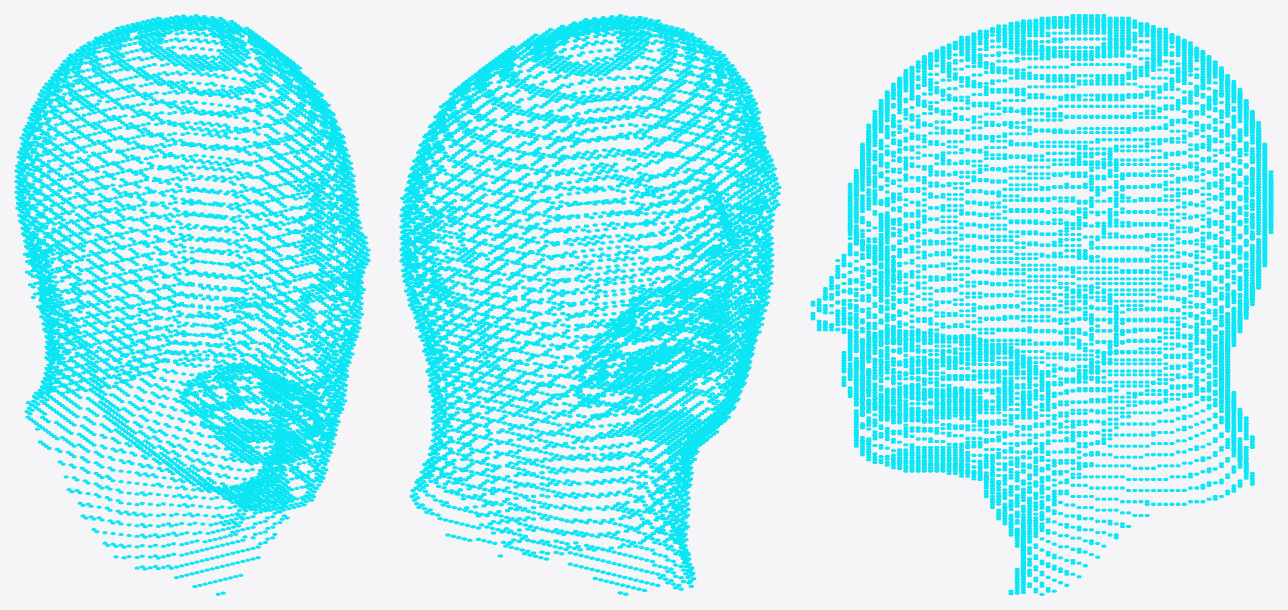
File: hologramaface.glb
The picture shows the model from 3 angles, left to right: view 1: azimuth 30°, elevation 25°; view 2: azimuth 150°, elevation 25°; view 3: azimuth 270°, elevation 25°; orthographic projection. The views are drawn at different scales.
Size of the model in its own units: 0.1169 by 0.201 by 0.1512.
